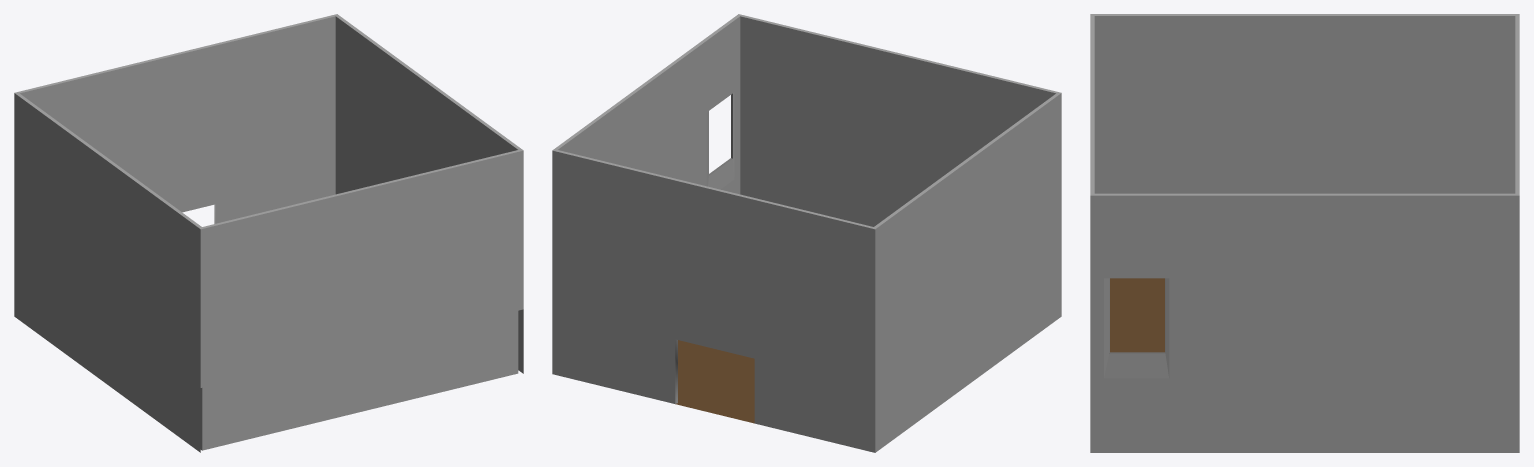
The model's file is Room 2.fbx.
The picture shows the model from 3 angles, left to right: view 1: azimuth 30°, elevation 25°; view 2: azimuth 150°, elevation 25°; view 3: azimuth 270°, elevation 25°; orthographic projection. The views are drawn at different scales.
Visible parts, largest first — view 1: polySurface16; view 2: polySurface16, polySurface15; view 3: polySurface16, polySurface15.
Part boxes in pixels (left/top/right/bottom): polySurface16: left=14, top=14, right=523, bottom=452; polySurface16: left=552, top=14, right=1061, bottom=452; polySurface15: left=675, top=340, right=754, bottom=423; polySurface16: left=1090, top=14, right=1519, bottom=452; polySurface15: left=1110, top=278, right=1164, bottom=352.
Bounding box in the file's own units: 36.95 × 24.44 × 36.95.
